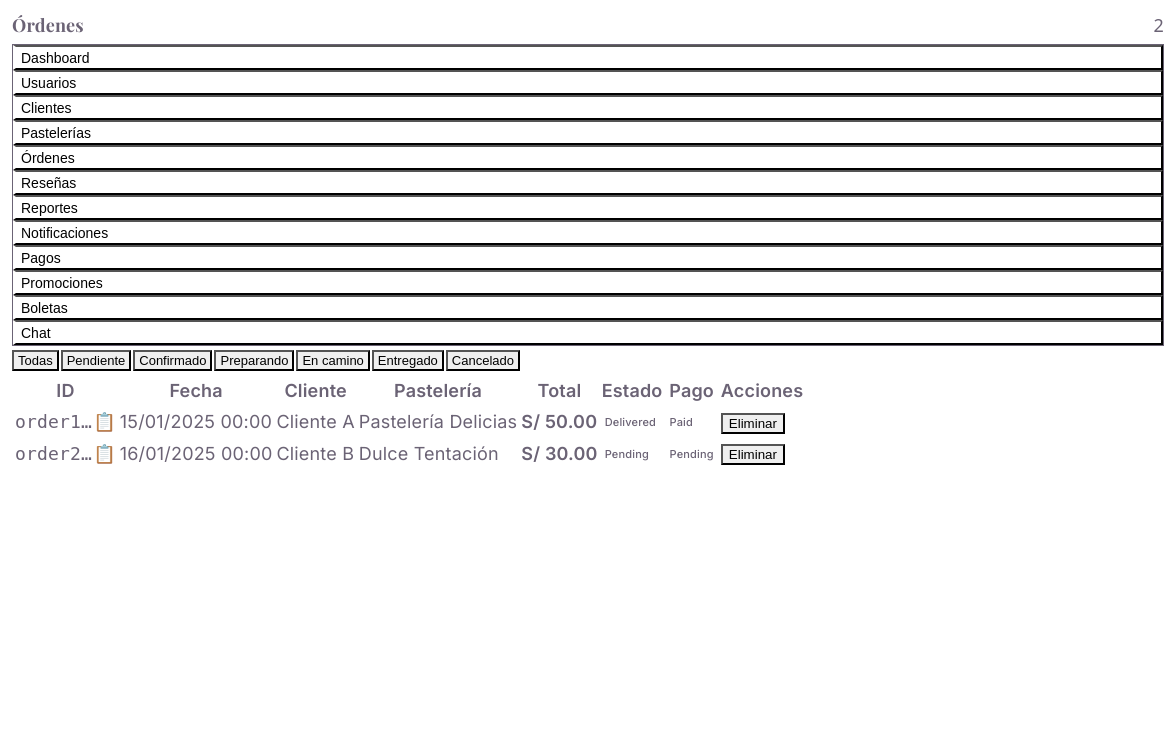
Test: AdminOrders › muestra empty state con filtro específico
Expected: the text "Cliente A" is shown, [276,407,356,437]
Click the button "Pendiente" at (96, 361), box [61,350,131,371]
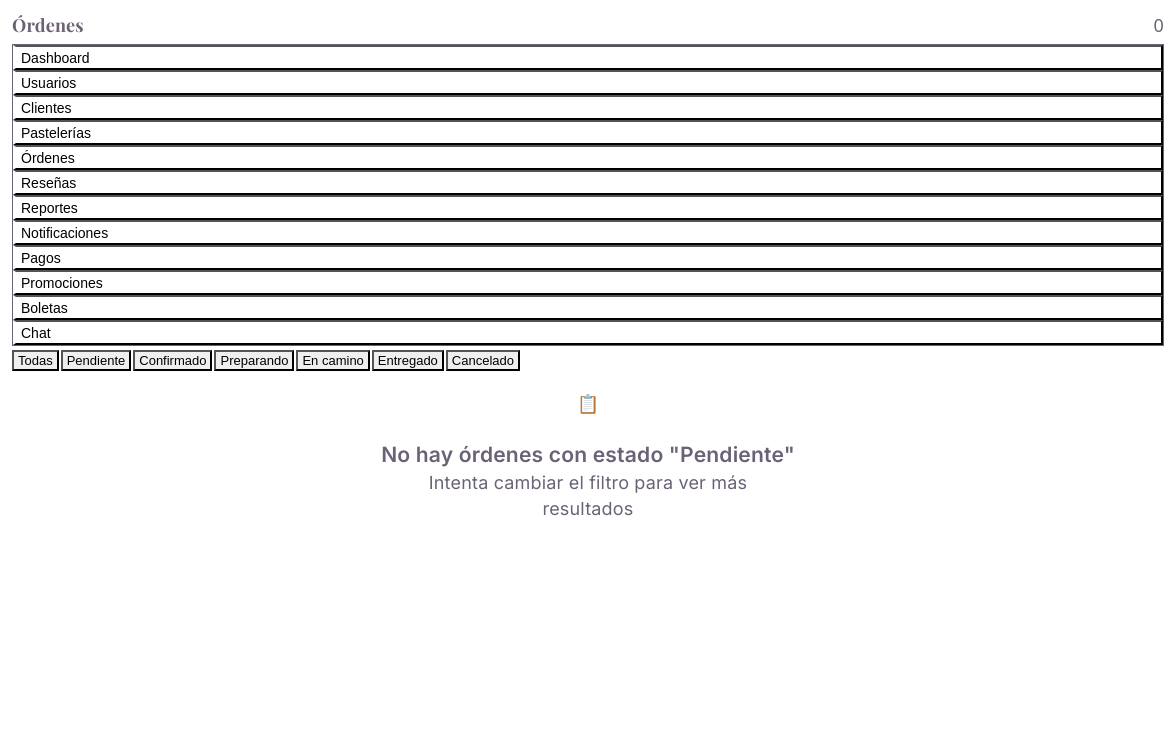
Result: the heading "No hay órdenes con estado \"Pendiente\"" is shown at [381,442,795,468]
